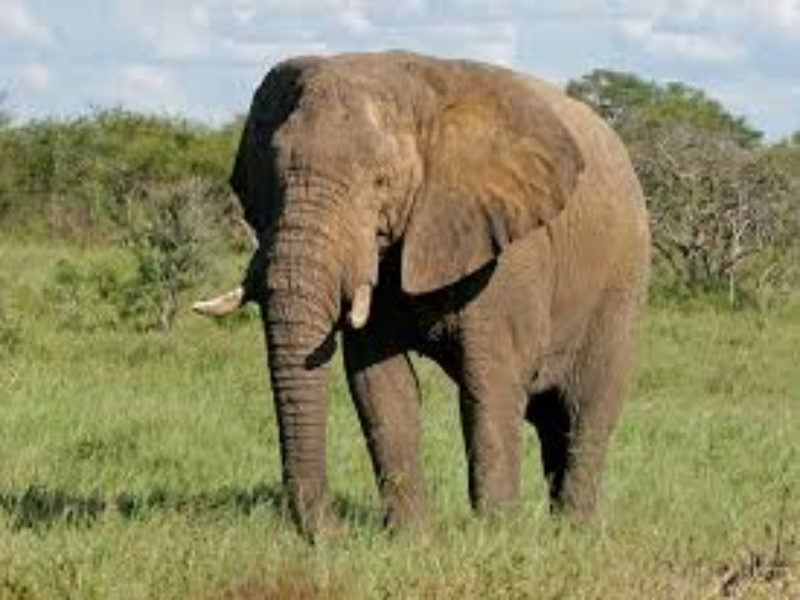elephant: (189, 49, 684, 551)
